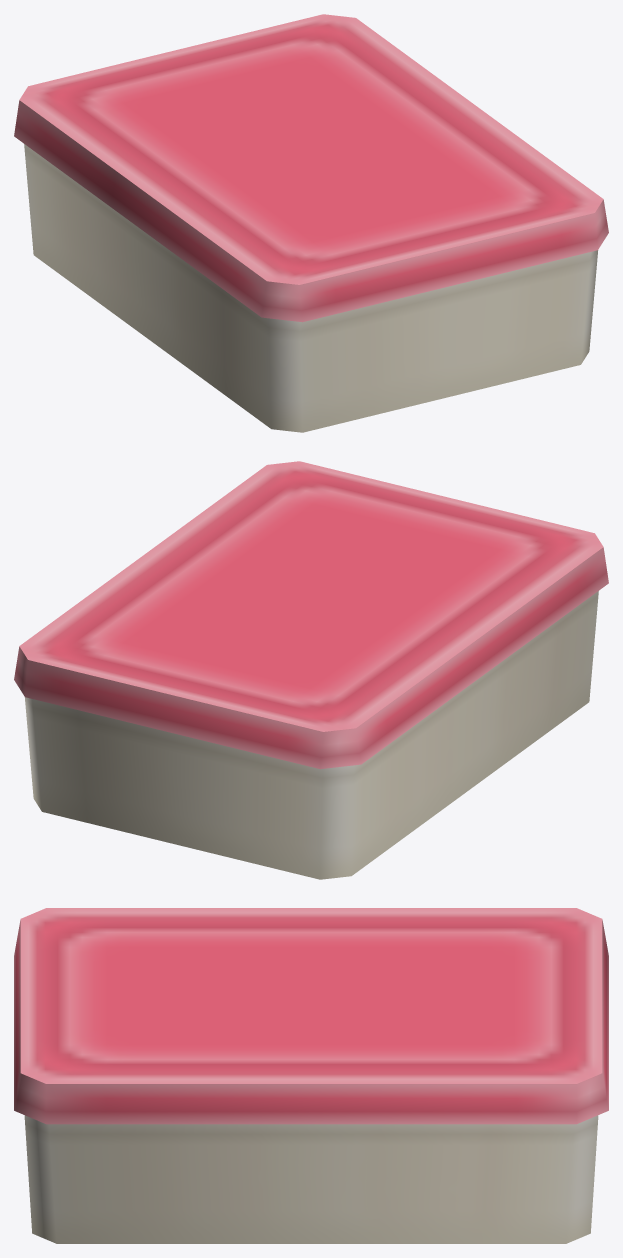
File: KR_Tupperware_01_01.fbx
The picture shows the model from 3 angles, top to bottom: view 1: azimuth 30°, elevation 25°; view 2: azimuth 150°, elevation 25°; view 3: azimuth 270°, elevation 25°; orthographic projection. The views are drawn at different scales.
Visible parts, largest first — view 1: lid01, tupperware01; view 2: lid01, tupperware01; view 3: lid01, tupperware01.
Part boxes in pixels (left/top/right/bottom): lid01: left=14, top=14, right=608, bottom=322; tupperware01: left=24, top=144, right=598, bottom=432; lid01: left=14, top=461, right=608, bottom=769; tupperware01: left=24, top=591, right=598, bottom=879; lid01: left=14, top=908, right=608, bottom=1124; tupperware01: left=24, top=1115, right=598, bottom=1243.
Size of the model in its own units: 13 by 5.5 by 18.
